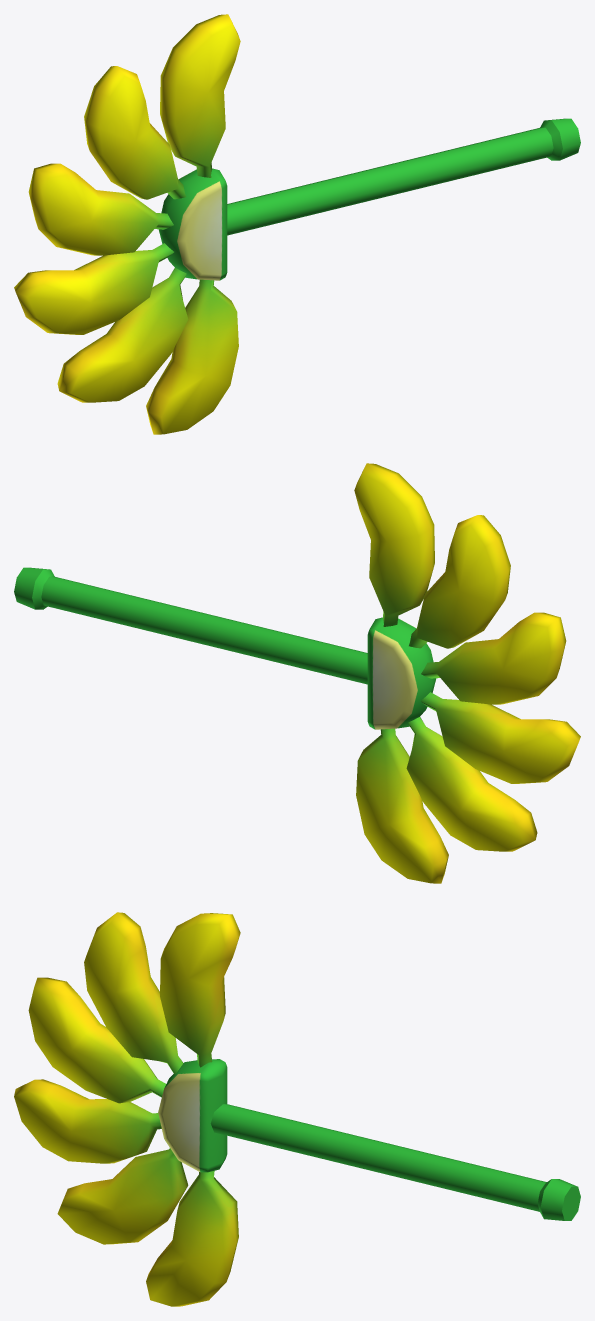
Rendered from banana.fbx.
3 views of the same model, one above another, from view 1: azimuth 30°, elevation 25°; view 2: azimuth 150°, elevation 25°; view 3: azimuth 330°, elevation 25° (orthographic).
Visible parts, largest first — view 1: banana wand; view 2: banana wand; view 3: banana wand.
Part boxes in pixels (x1,y1,x2,y2): banana wand: (14,14,580,434); banana wand: (14,463,580,883); banana wand: (14,912,580,1306).
Size of the model in its own units: 47.16 by 32.66 by 3.28.
